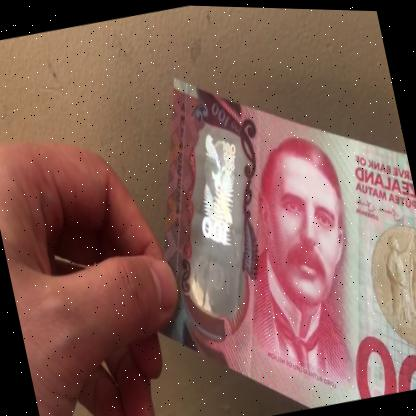100F: (160, 126, 267, 305)
